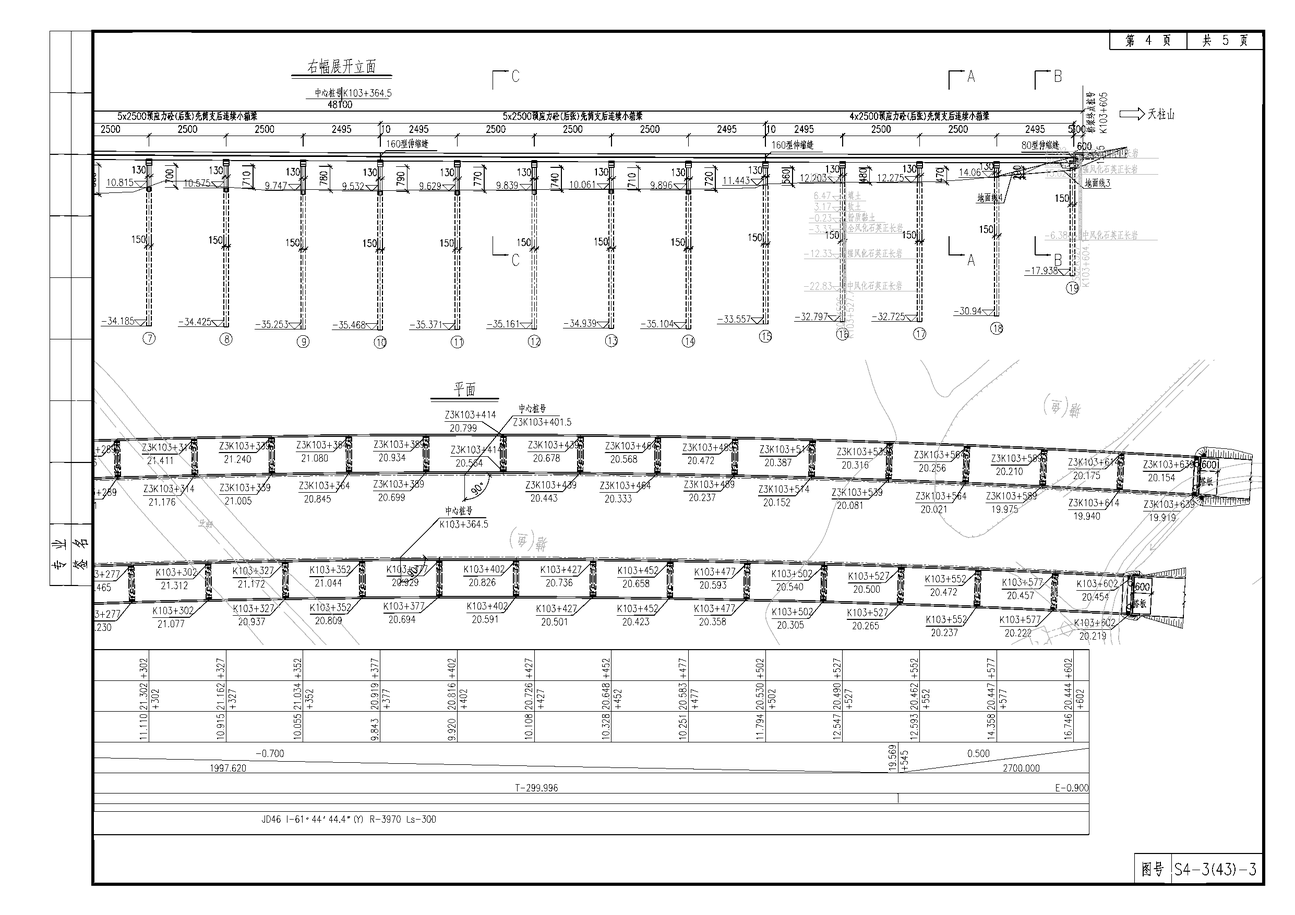A: (92, 53, 1177, 362)
